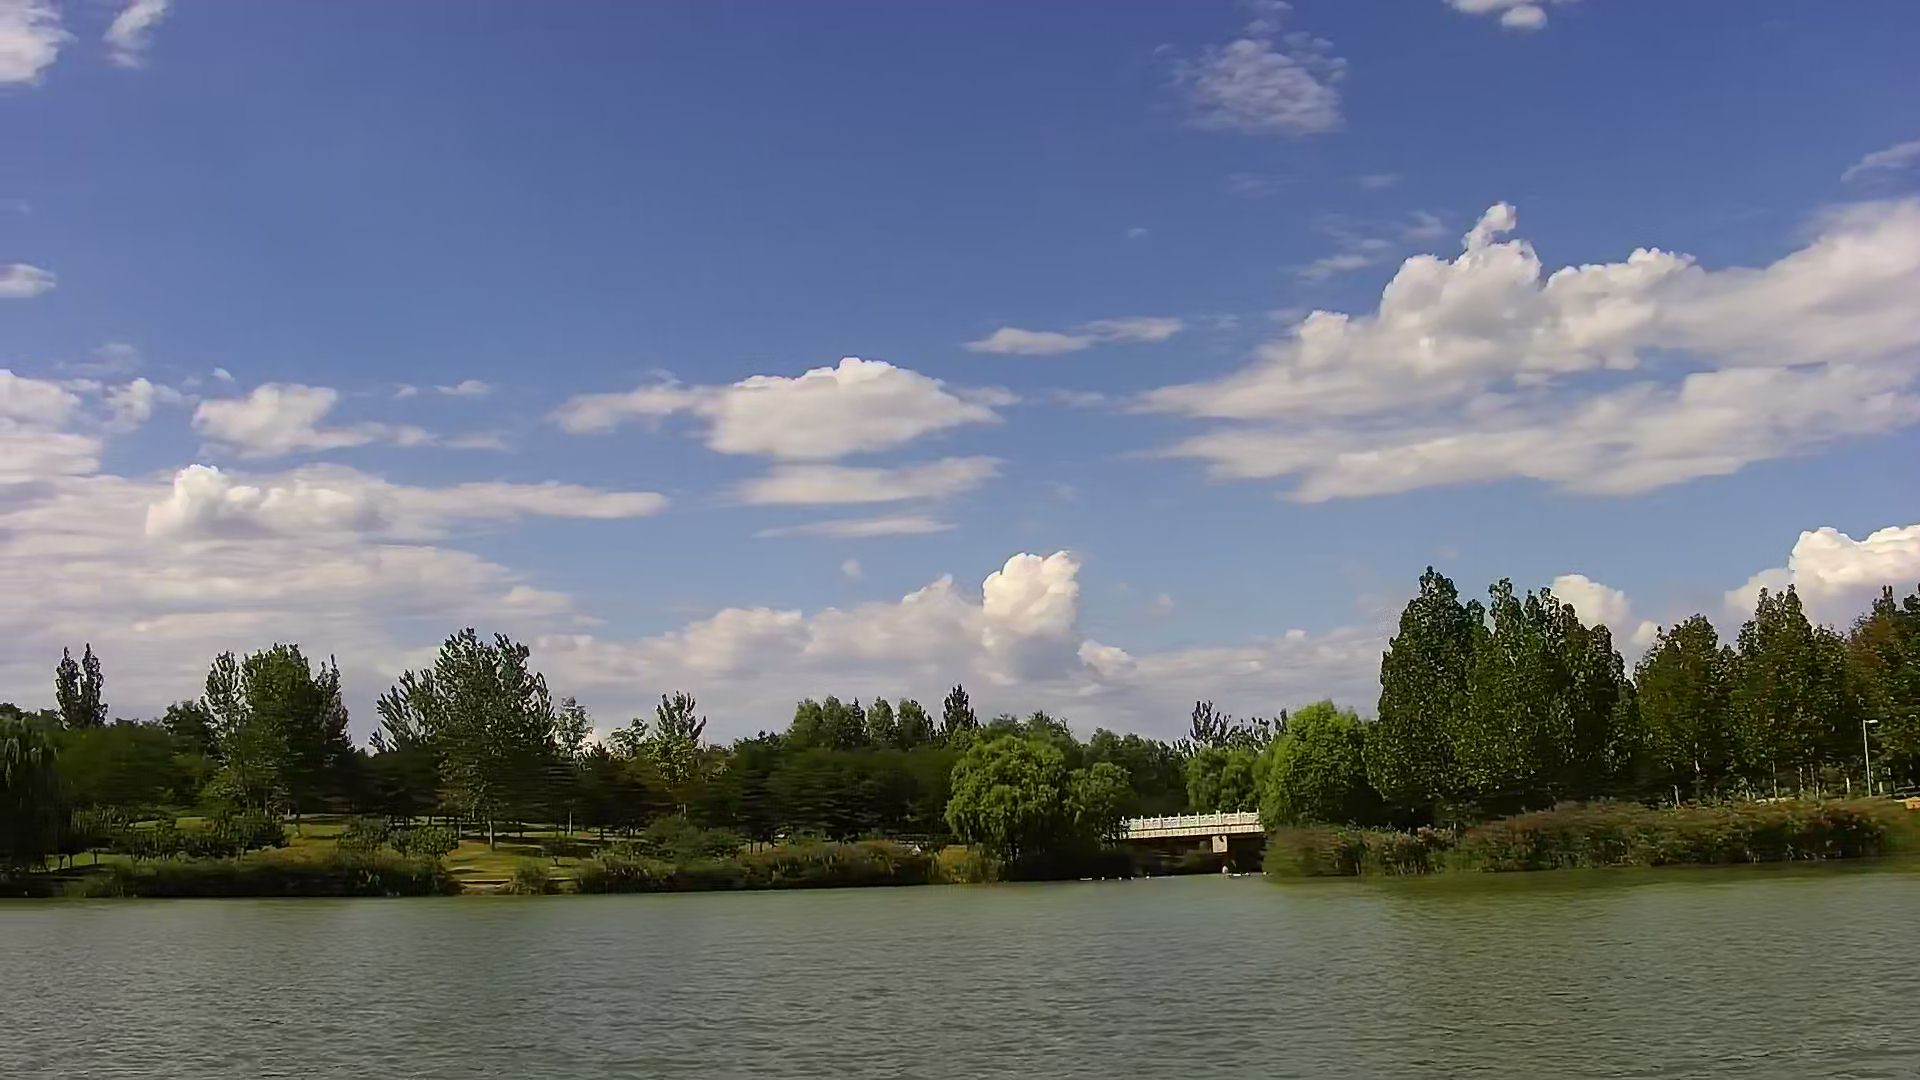bridge: (1120, 806, 1263, 874)
